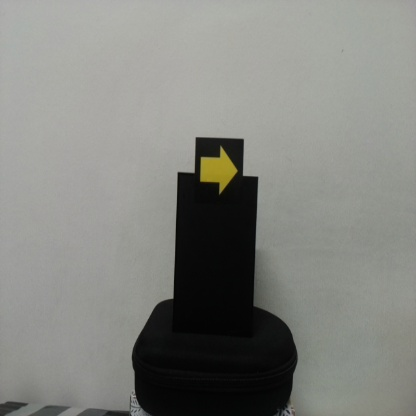id_3: (194, 138, 244, 205)
